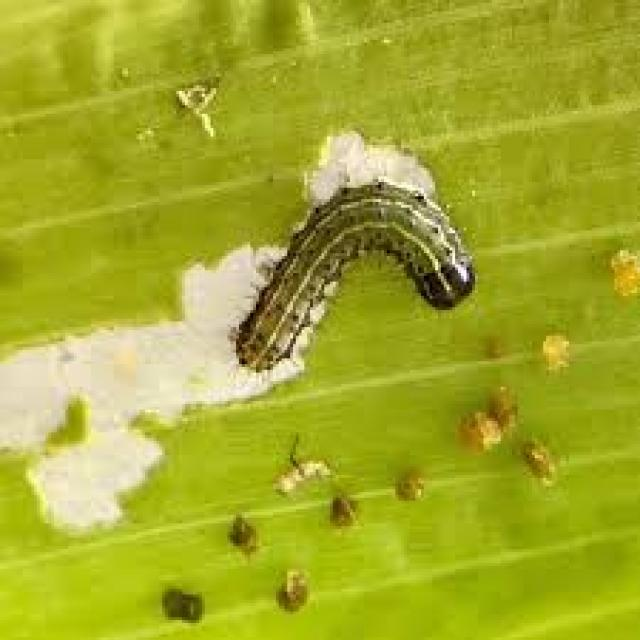Army Worm: (231, 176, 482, 378)
